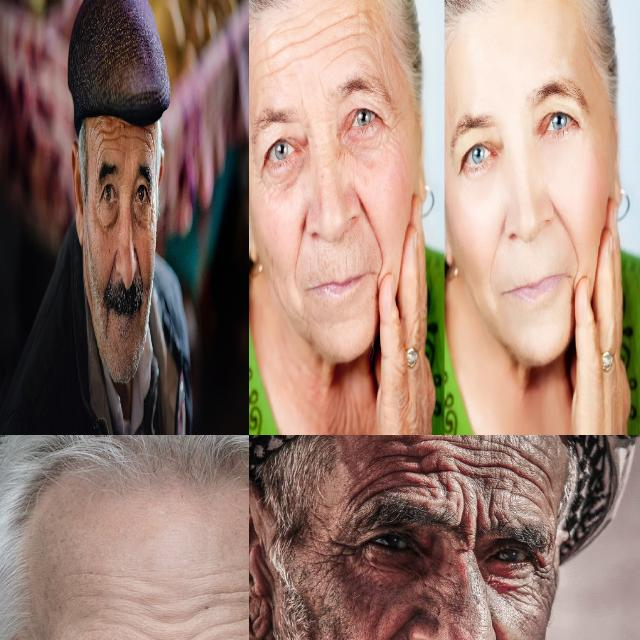bunny_line: (421, 578, 447, 606), (336, 144, 351, 170)
chin: (297, 302, 312, 341)
crows_feet: (319, 537, 363, 571), (381, 114, 403, 146), (534, 561, 556, 587)
forehead: (510, 448, 548, 494), (329, 11, 368, 55), (258, 27, 290, 78), (458, 451, 498, 485), (351, 472, 389, 506), (296, 12, 322, 60), (197, 560, 249, 582), (108, 588, 156, 610), (404, 462, 444, 488), (196, 611, 249, 630), (396, 435, 439, 457), (96, 120, 120, 158), (132, 622, 174, 640), (219, 577, 249, 602), (138, 126, 156, 154)
frown_line: (459, 497, 491, 539), (295, 80, 307, 118), (316, 71, 326, 98)
gummy_smile: (554, 202, 579, 251), (360, 200, 381, 256), (486, 222, 504, 282), (293, 212, 306, 274), (371, 617, 403, 640), (108, 238, 116, 286), (135, 245, 144, 287)
